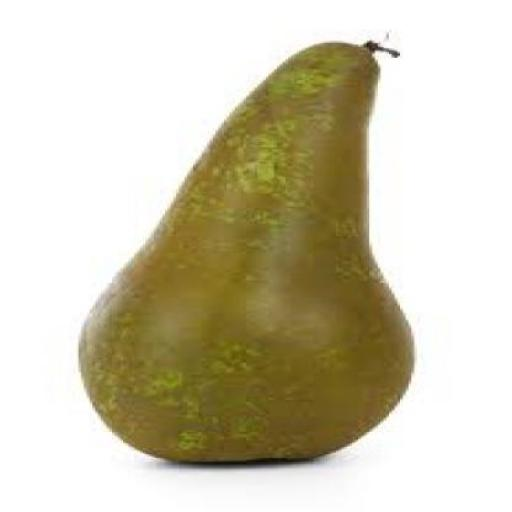biodegradable: (73, 39, 417, 462)
